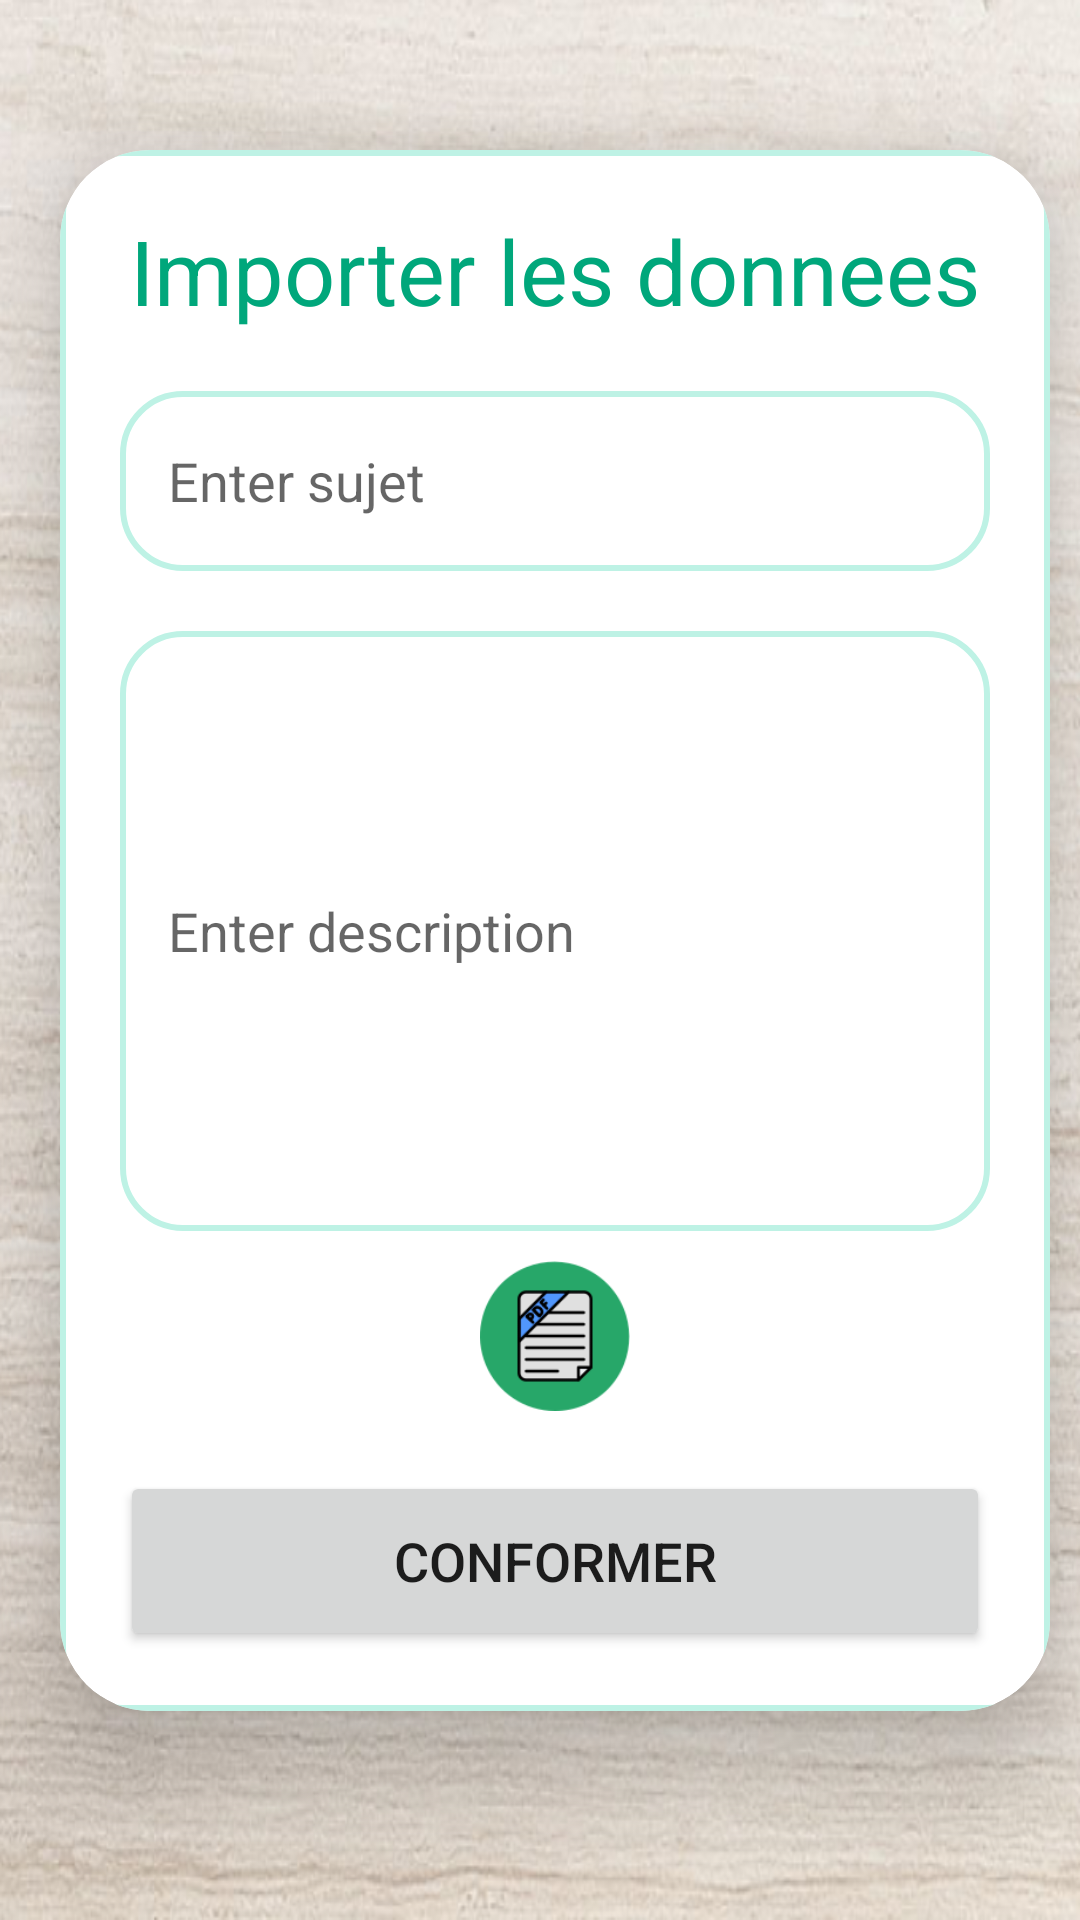

Point at icon controls on the screen. Image size 1080 x 1920, points as (x=x, y=y).
importpdf: (x=555, y=1336)
